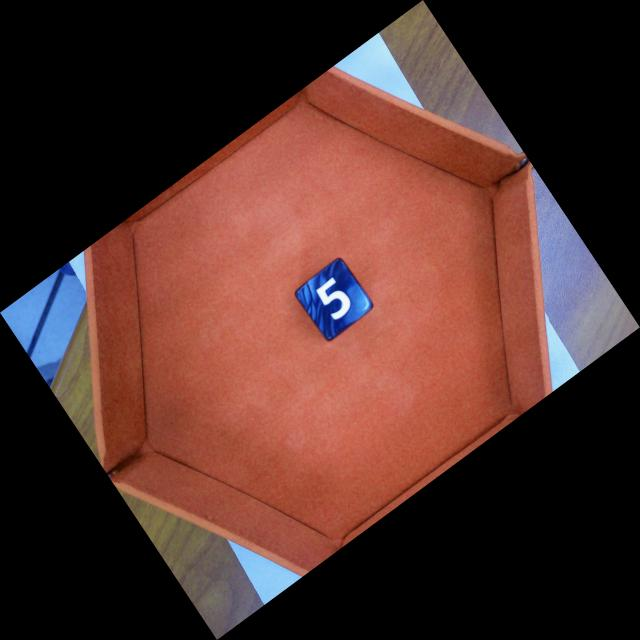dice: (291, 255, 378, 346)
